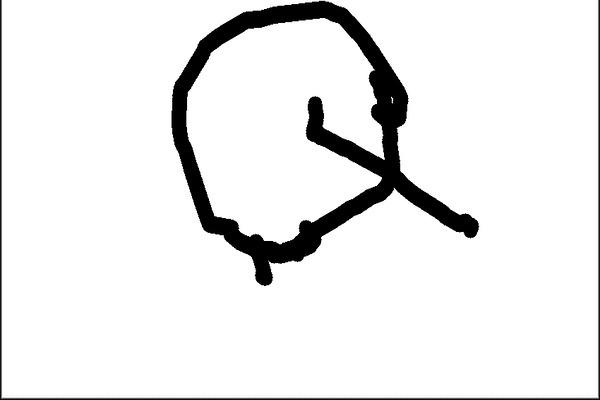Q: (160, 5, 500, 293)
